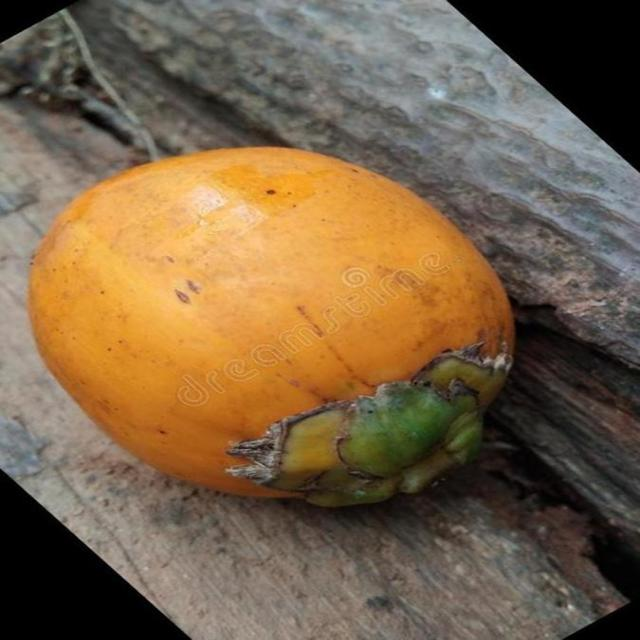good: (25, 146, 517, 512)
